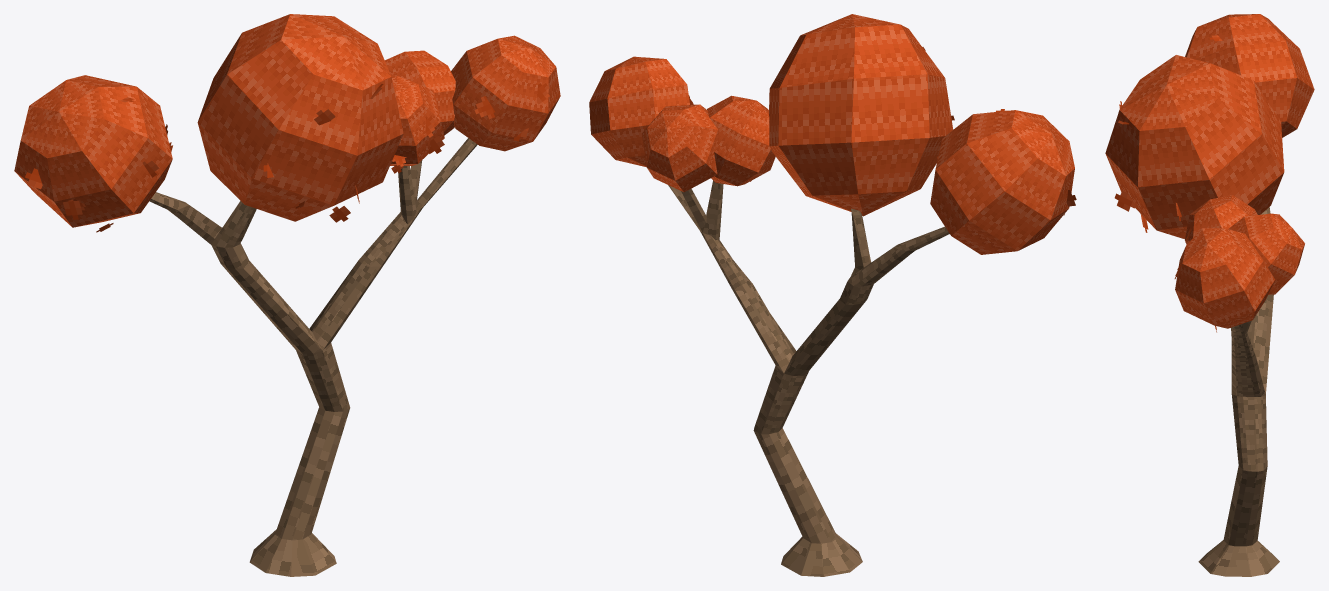
Rendered from Arbre var3.glb.
The picture shows the model from 3 angles, left to right: view 1: azimuth 30°, elevation 25°; view 2: azimuth 150°, elevation 25°; view 3: azimuth 270°, elevation 25°; orthographic projection. The views are drawn at different scales.
Parts seen in each view (by area): view 1: Cube.003; view 2: Cube.003; view 3: Cube.003.
Boxes of the visible parts, <box> form: Cube.003: <box>14,14,560,576</box>; Cube.003: <box>589,14,1076,576</box>; Cube.003: <box>1105,14,1314,576</box>.
Size of the model in its own units: 3.65 by 3.78 by 1.46.
Materials: 34 (34 with a texture image).
